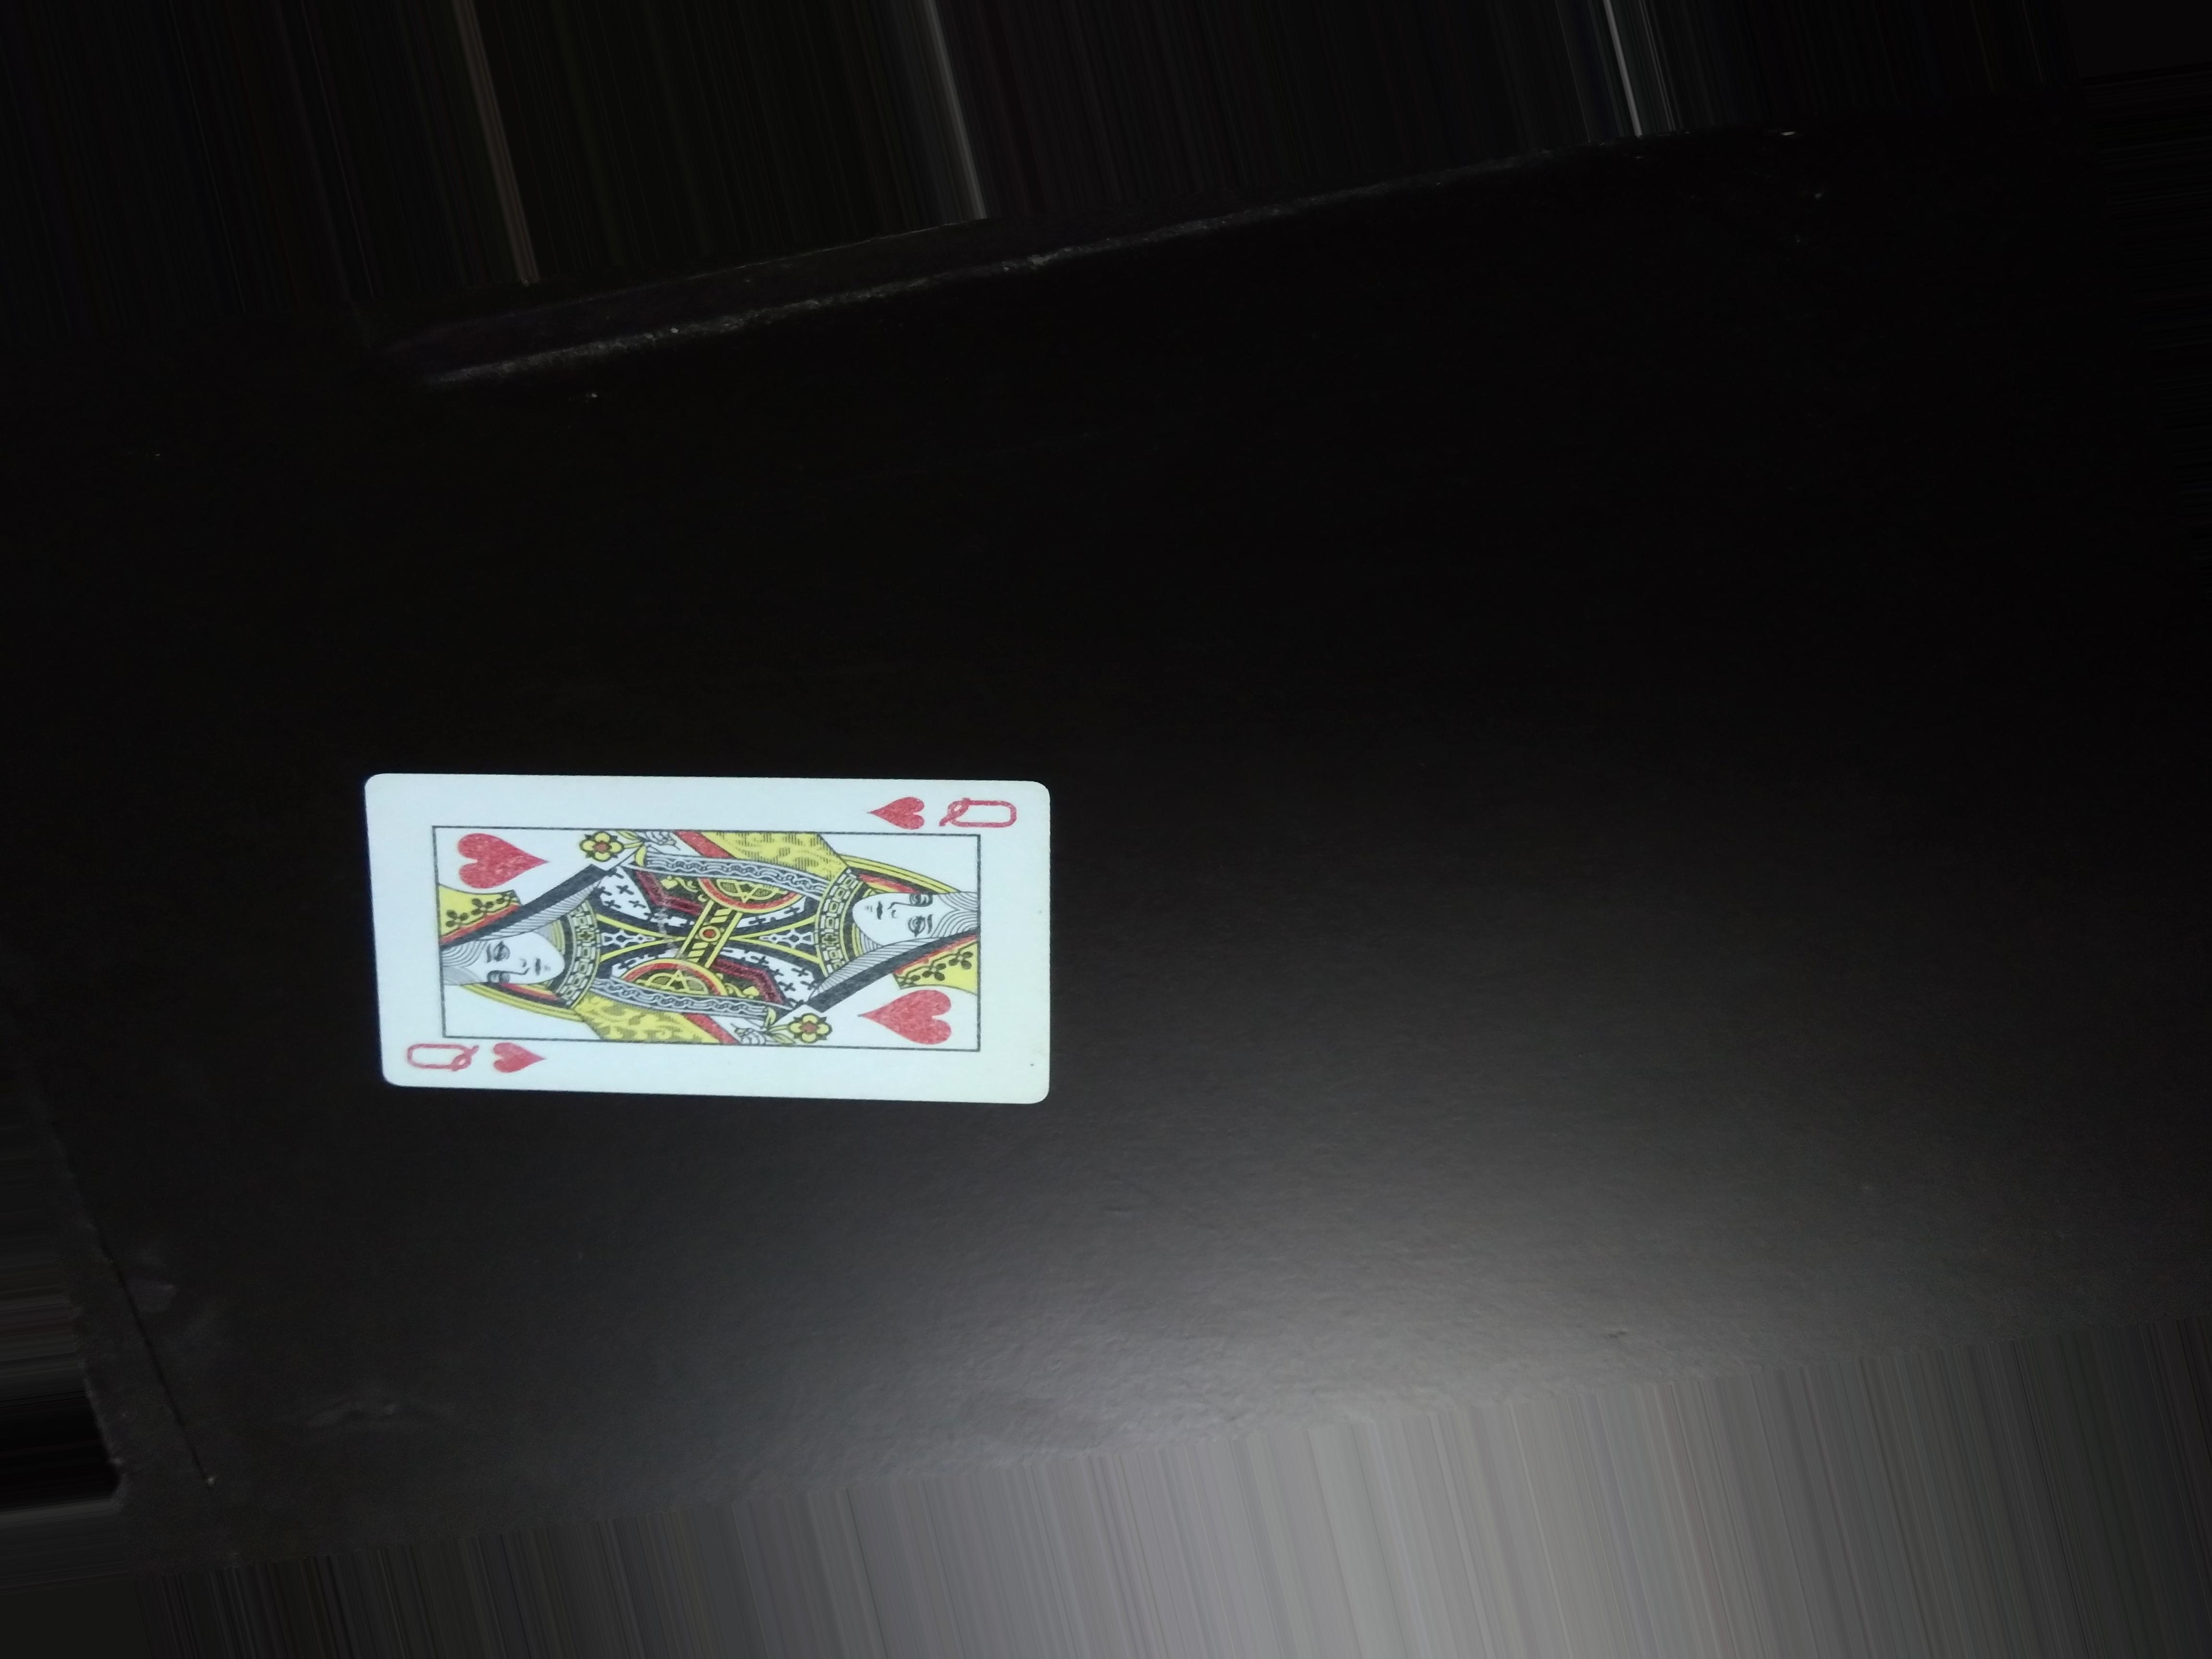QH: (846, 775, 1029, 842)
